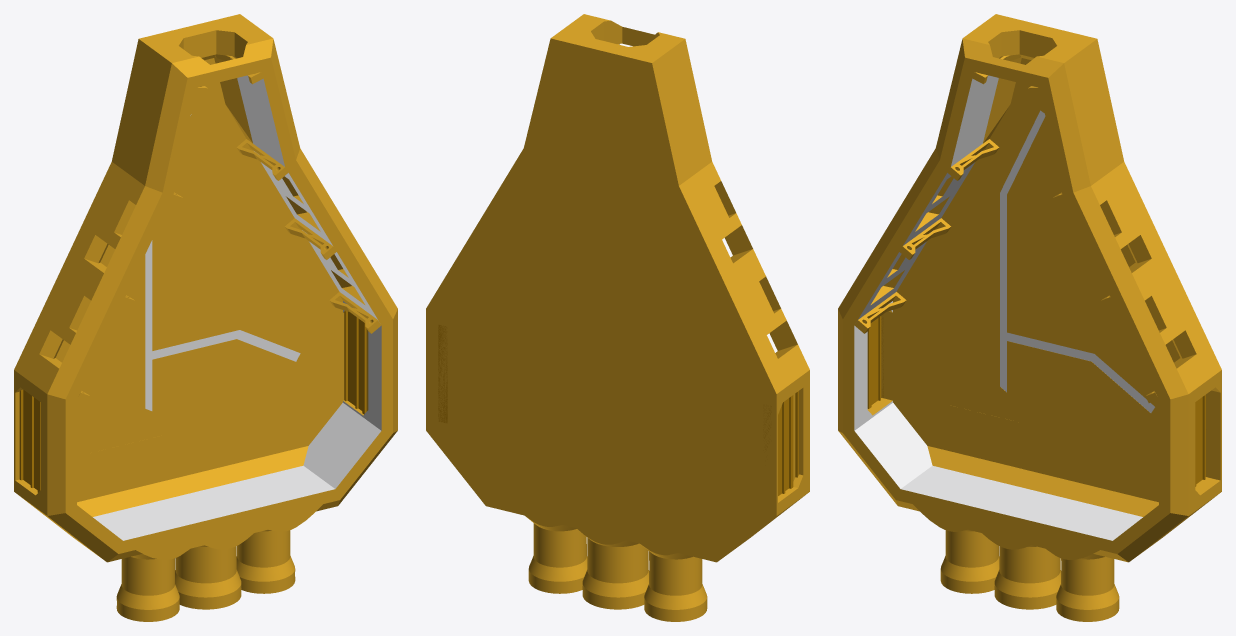
The model's file is ship.fbx.
3 renders of one model, left to right at view 1: azimuth 30°, elevation 25°; view 2: azimuth 150°, elevation 25°; view 3: azimuth 330°, elevation 25°, orthographic.
Parts seen in each view (by area): view 1: Hull, Body1 (×2); view 2: Hull, Body1 (×2); view 3: Hull, Body1 (×2).
Part boxes in pixels (box(x1,y1,x2,y2)): Hull: box(14, 14, 397, 621); Body1 (×2): box(19, 311, 368, 492); Hull: box(426, 14, 809, 621); Body1 (×2): box(438, 325, 798, 495); Hull: box(838, 14, 1221, 621); Body1 (×2): box(867, 316, 1205, 486).
Size of the model in its own units: 15178 by 23000 by 3082.
